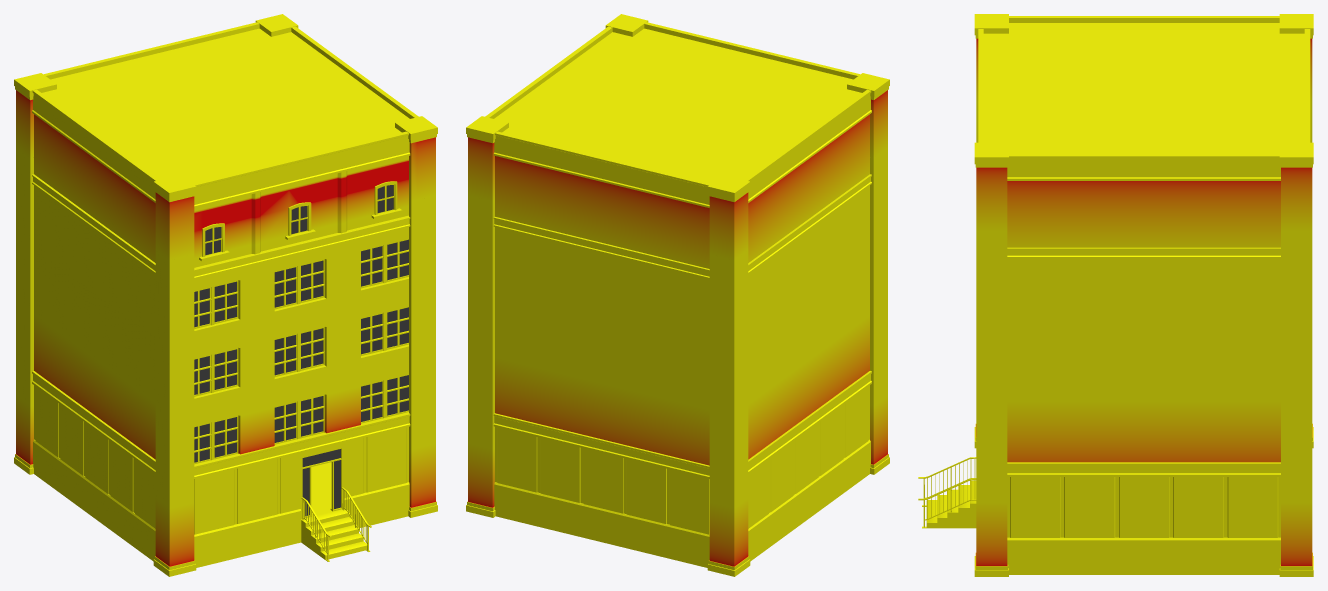
The model's file is building-small-1.glb.
3 renders of one model, left to right at view 1: azimuth 30°, elevation 25°; view 2: azimuth 150°, elevation 25°; view 3: azimuth 270°, elevation 25°, orthographic. The views are drawn at different scales.
Parts seen in each view (by area): view 1: Building_Small_1; view 2: Building_Small_1; view 3: Building_Small_1.
Part boxes in pixels (x1,y1,x2,y2): Building_Small_1: [14, 14, 437, 576]; Building_Small_1: [466, 14, 889, 576]; Building_Small_1: [918, 14, 1313, 576].
Bounding box in the file's own units: 12.46 × 17.03 × 14.54.
13 materials, 12 textured.
